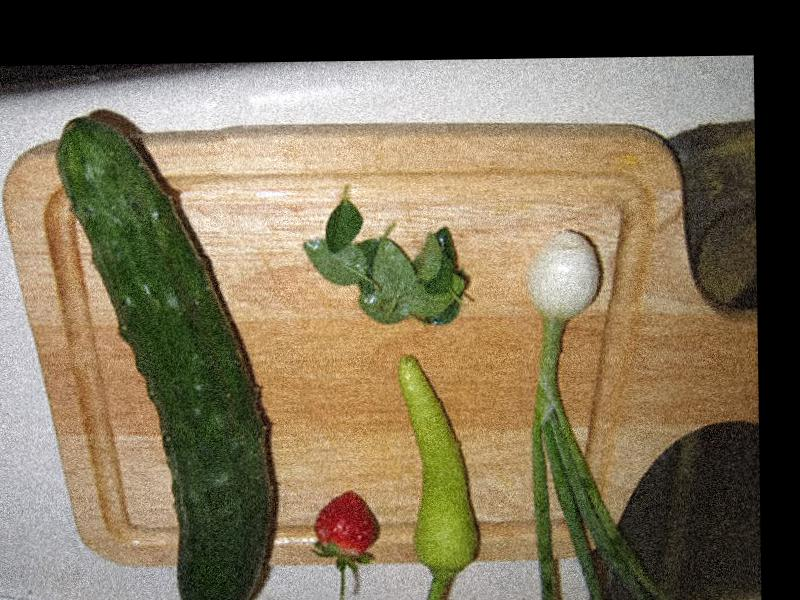Cucumber: (56, 114, 274, 600)
